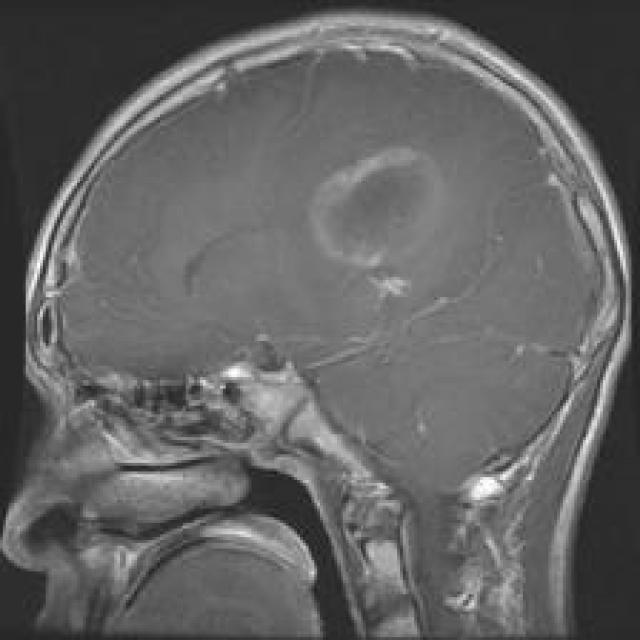glioma_tumor: (299, 129, 466, 321)
